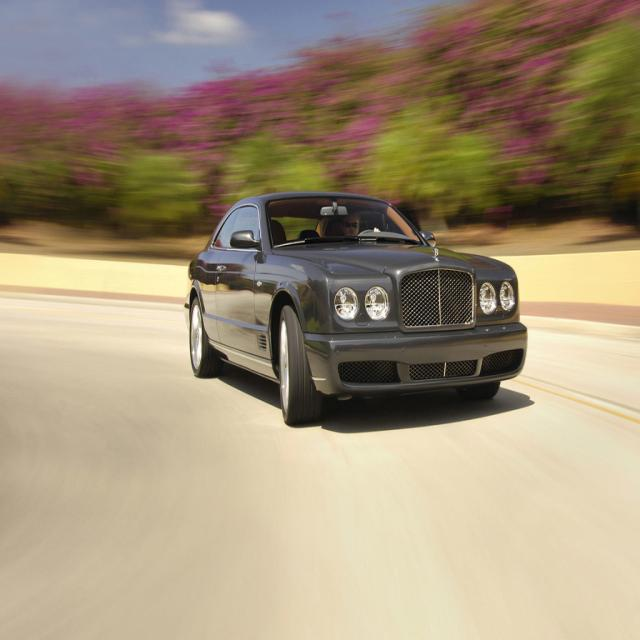Car: (184, 191, 528, 425)
